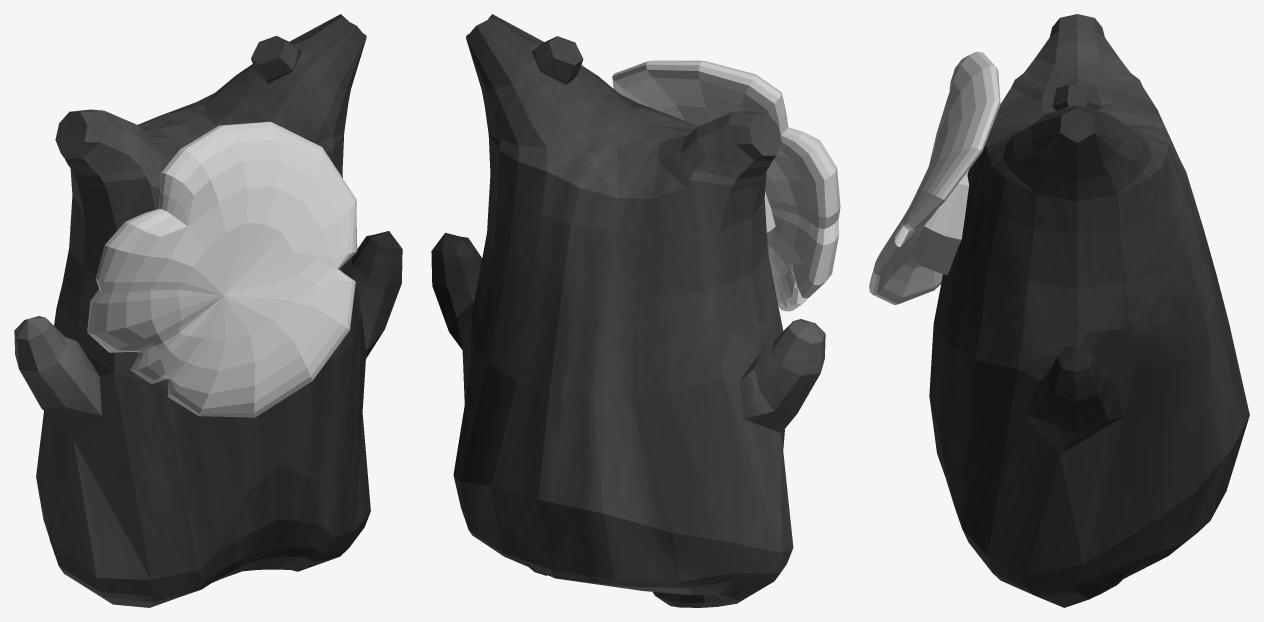
The model's file is frame_0055.obj.
3 renders of one model, left to right at view 1: azimuth 30°, elevation 25°; view 2: azimuth 150°, elevation 25°; view 3: azimuth 270°, elevation 25°, orthographic. The views are drawn at different scales.
Parts seen in each view (by area): view 1: korok, leaf; view 2: korok, leaf; view 3: korok, leaf, nose.
Part boxes in pixels (x1,y1,x2,y2): korok: [14, 14, 402, 607]; leaf: [87, 121, 357, 417]; korok: [431, 14, 825, 607]; leaf: [612, 60, 840, 311]; korok: [929, 14, 1249, 607]; leaf: [869, 51, 1000, 304]; nose: [907, 169, 969, 274].
Size of the model in its own units: 1.55 by 2.05 by 1.36.
